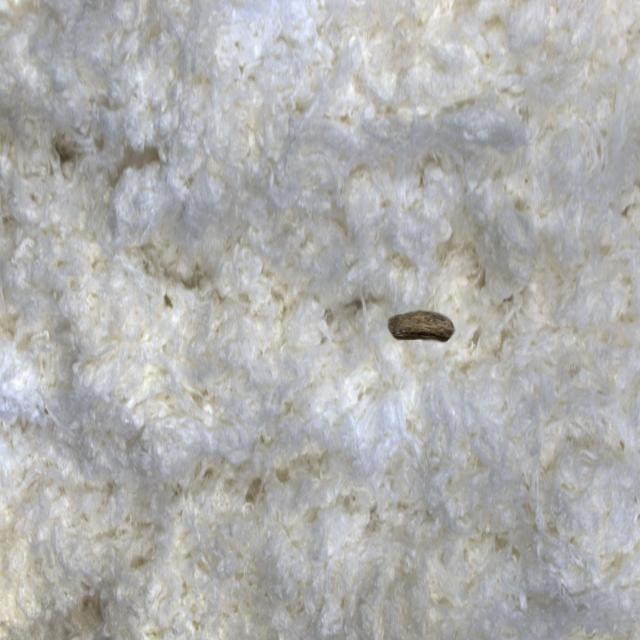dust: (361, 256, 478, 409)
